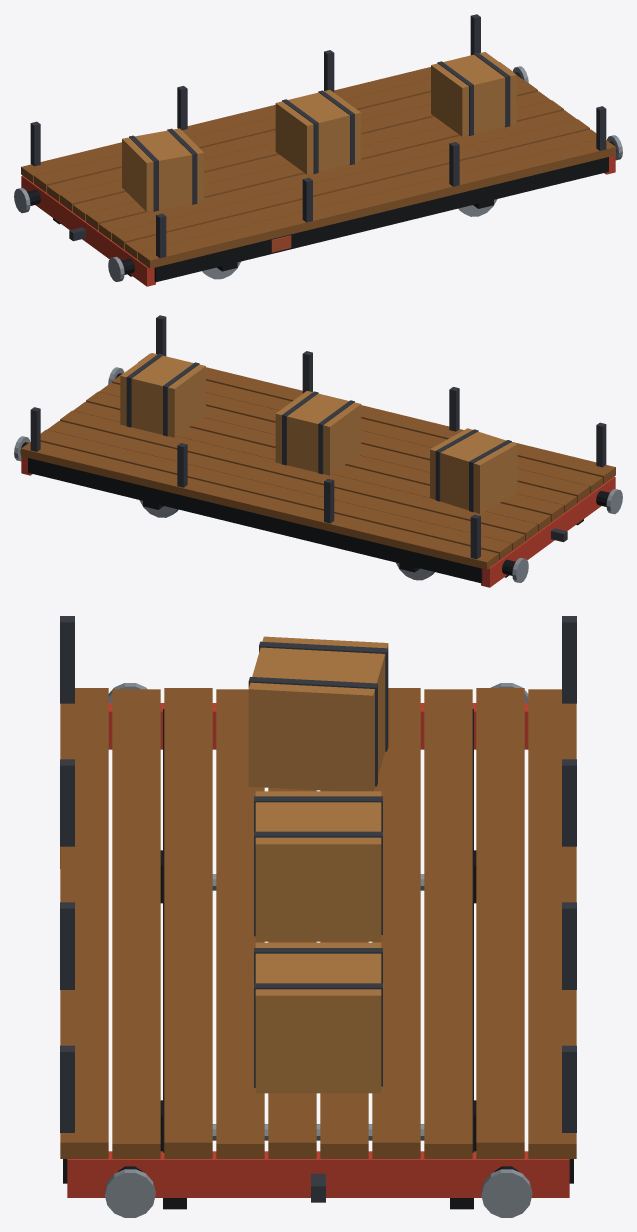
The model's file is WagonFlatCrates_atlas.fbx.
3 views of the same model, one above another, from view 1: azimuth 30°, elevation 25°; view 2: azimuth 150°, elevation 25°; view 3: azimuth 270°, elevation 25° (orthographic). The views are drawn at different scales.
Parts seen in each view (by area): view 1: WagonFlatCrates_Deck_Timber_01, WagonFlatCrates_Solebar_Chassis_01, WagonFlatCrates_Crate_Crate_02, WagonFlatCrates_Crate_Crate_03, WagonFlatCrates_Crate_Crate_01, WagonFlatCrates_BufferBeam_Buffer_01, WagonFlatCrates_Stanchion_Iron_01, WagonFlatCrates_Stanchion_Iron_02, WagonFlatCrates_CrateBand_Iron_01, WagonFlatCrates_CrateBand_Iron_03, WagonFlatCrates_CrateBand_Iron_02; view 2: WagonFlatCrates_Deck_Timber_01, WagonFlatCrates_Solebar_Chassis_02, WagonFlatCrates_Crate_Crate_01, WagonFlatCrates_Crate_Crate_02, WagonFlatCrates_Crate_Crate_03, WagonFlatCrates_BufferBeam_Buffer_01, WagonFlatCrates_Stanchion_Iron_02, WagonFlatCrates_Stanchion_Iron_01, WagonFlatCrates_CrateBand_Iron_01, WagonFlatCrates_CrateBand_Iron_03, WagonFlatCrates_CrateBand_Iron_02; view 3: WagonFlatCrates_Deck_Timber_01, WagonFlatCrates_Crate_Crate_01, WagonFlatCrates_Crate_Crate_03, WagonFlatCrates_Crate_Crate_02, WagonFlatCrates_BufferBeam_Buffer_02, WagonFlatCrates_Stanchion_Iron_01, WagonFlatCrates_Stanchion_Iron_02, WagonFlatCrates_CrateBand_Iron_01, WagonFlatCrates_CrateBand_Iron_02, WagonFlatCrates_CrateBand_Iron_03, WagonFlatCrates_BufferHead_Steel_03, WagonFlatCrates_BufferHead_Steel_04 (+3 smaller).
Part boxes in pixels (box(x1,y1,x2,y2)): WagonFlatCrates_Deck_Timber_01: box(21, 62, 615, 268); WagonFlatCrates_Solebar_Chassis_01: box(154, 157, 608, 282); WagonFlatCrates_Crate_Crate_02: box(275, 90, 361, 174); WagonFlatCrates_Crate_Crate_03: box(431, 52, 516, 136); WagonFlatCrates_Crate_Crate_01: box(122, 128, 204, 211); WagonFlatCrates_BufferBeam_Buffer_01: box(21, 175, 155, 286); WagonFlatCrates_Stanchion_Iron_01: box(156, 106, 606, 258); WagonFlatCrates_Stanchion_Iron_02: box(30, 14, 480, 166); WagonFlatCrates_CrateBand_Iron_01: box(129, 128, 197, 211); WagonFlatCrates_CrateBand_Iron_03: box(437, 52, 510, 135); WagonFlatCrates_CrateBand_Iron_02: box(282, 90, 354, 173); WagonFlatCrates_Deck_Timber_01: box(21, 354, 615, 569); WagonFlatCrates_Solebar_Chassis_02: box(28, 458, 482, 583); WagonFlatCrates_Crate_Crate_01: box(430, 428, 517, 513); WagonFlatCrates_Crate_Crate_02: box(275, 391, 361, 475); WagonFlatCrates_Crate_Crate_03: box(120, 353, 205, 437); WagonFlatCrates_BufferBeam_Buffer_01: box(481, 476, 615, 587); WagonFlatCrates_Stanchion_Iron_02: box(30, 407, 480, 559); WagonFlatCrates_Stanchion_Iron_01: box(156, 315, 606, 467); WagonFlatCrates_CrateBand_Iron_01: box(435, 429, 511, 512); WagonFlatCrates_CrateBand_Iron_03: box(126, 353, 199, 436); WagonFlatCrates_CrateBand_Iron_02: box(282, 391, 354, 474); WagonFlatCrates_Deck_Timber_01: box(60, 688, 576, 1158); WagonFlatCrates_Crate_Crate_01: box(248, 636, 388, 791); WagonFlatCrates_Crate_Crate_03: box(255, 942, 381, 1093); WagonFlatCrates_Crate_Crate_02: box(255, 791, 381, 941); WagonFlatCrates_BufferBeam_Buffer_02: box(67, 1151, 569, 1197); WagonFlatCrates_Stanchion_Iron_01: box(60, 616, 74, 1132); WagonFlatCrates_Stanchion_Iron_02: box(562, 616, 576, 1132); WagonFlatCrates_CrateBand_Iron_01: box(248, 641, 388, 786); WagonFlatCrates_CrateBand_Iron_02: box(254, 796, 382, 936); WagonFlatCrates_CrateBand_Iron_03: box(254, 948, 382, 1087); WagonFlatCrates_BufferHead_Steel_03: box(104, 1169, 155, 1217); WagonFlatCrates_BufferHead_Steel_04: box(481, 1169, 532, 1217).
Size of what is drawn, in the model's own units: 38.8 by 8.65 by 17.3.
1 material, 1 textured.
